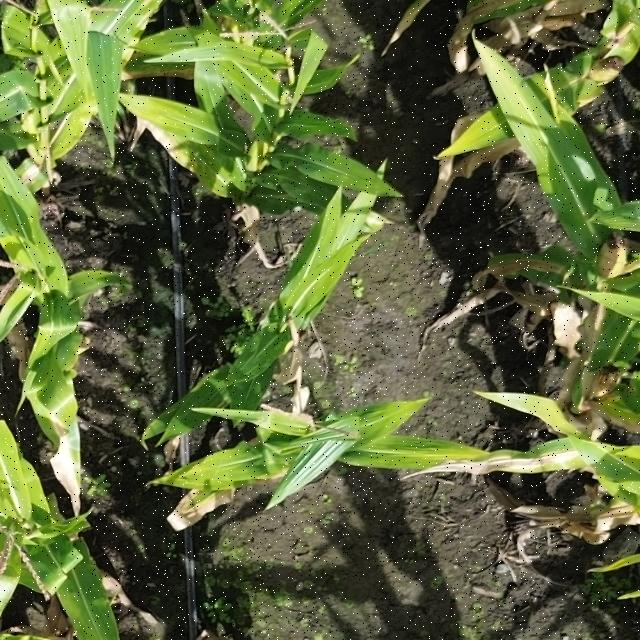gray-leaf-spot: (116, 0, 158, 43), (237, 343, 273, 378), (283, 170, 324, 200)
northern-leaf-blight: (41, 404, 94, 476), (486, 444, 580, 476), (496, 251, 576, 283), (17, 161, 53, 195)
southern-leaf-blight: (181, 144, 229, 186), (65, 93, 101, 138)
